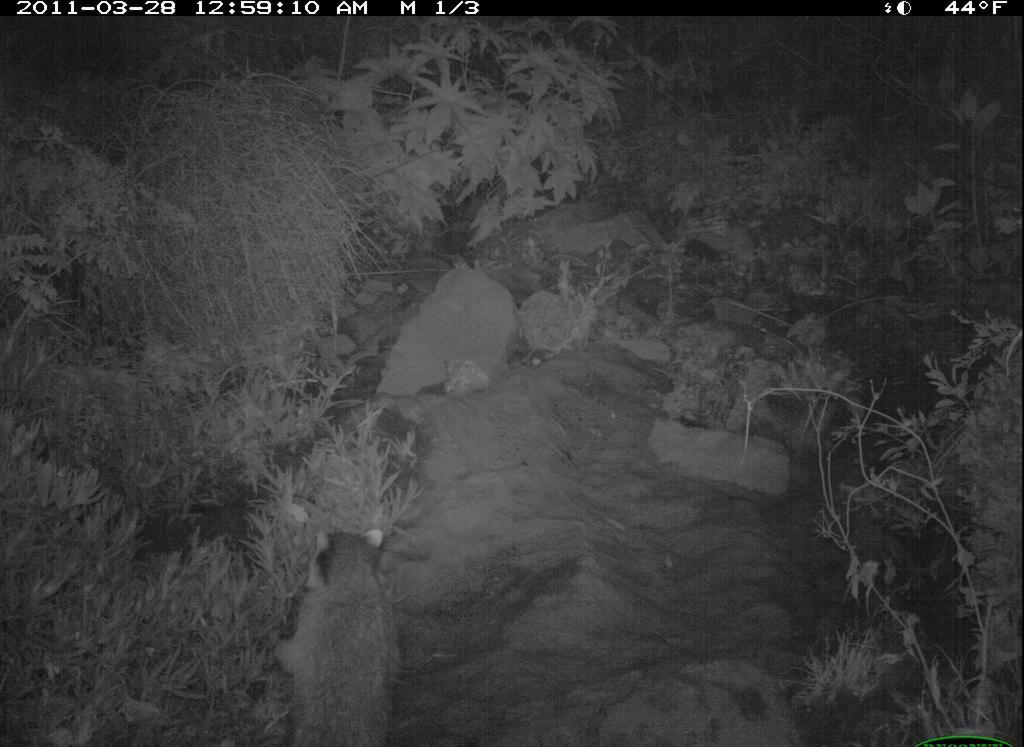raccoon: (248, 513, 433, 747)
